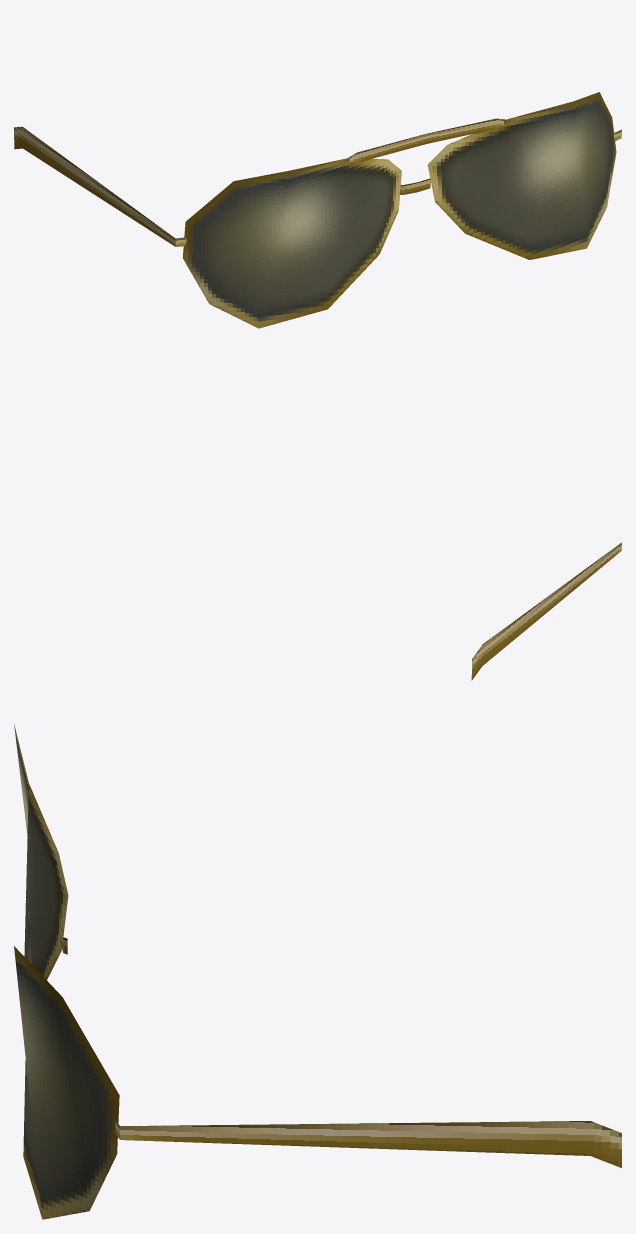
Rendered from tt_m_chr_avt_acc_msk_aviator.glb.
3 views of the same model, one above another, from view 1: azimuth 30°, elevation 25°; view 2: azimuth 150°, elevation 25°; view 3: azimuth 270°, elevation 25° (orthographic). The views are drawn at different scales.
Visible parts, largest first — view 1: aviator; view 2: aviator; view 3: aviator.
Boxes of the visible parts, x1,y1,x2,y2 form: aviator: (14, 92, 621, 328); aviator: (471, 542, 621, 680); aviator: (14, 724, 621, 1219).
Size of the model in its own units: 3.52 by 1.16 by 2.5.
Materials: 1 (1 with a texture image).
